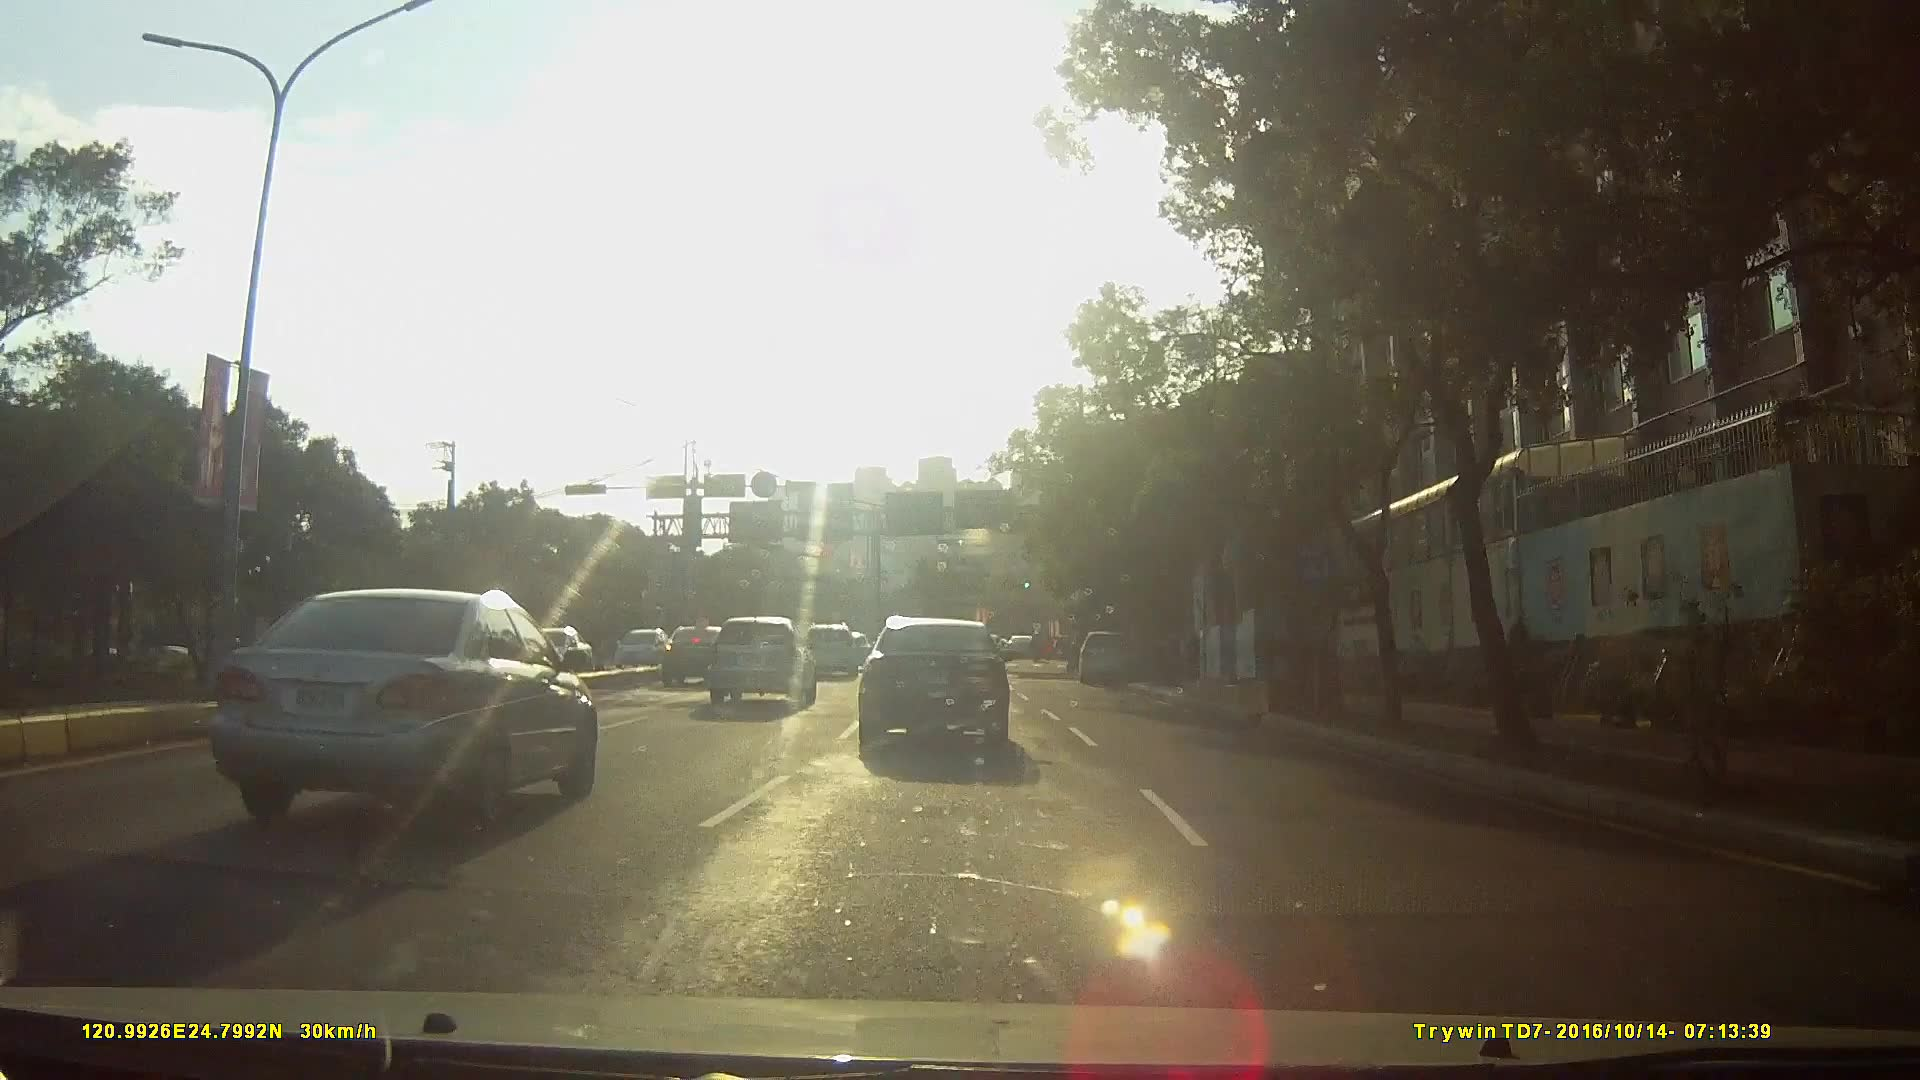vehicle: (190, 578, 608, 837), (855, 607, 1033, 761), (704, 613, 818, 708), (645, 618, 723, 680), (524, 618, 600, 679), (796, 618, 858, 676), (1077, 625, 1139, 680), (608, 625, 674, 669)
